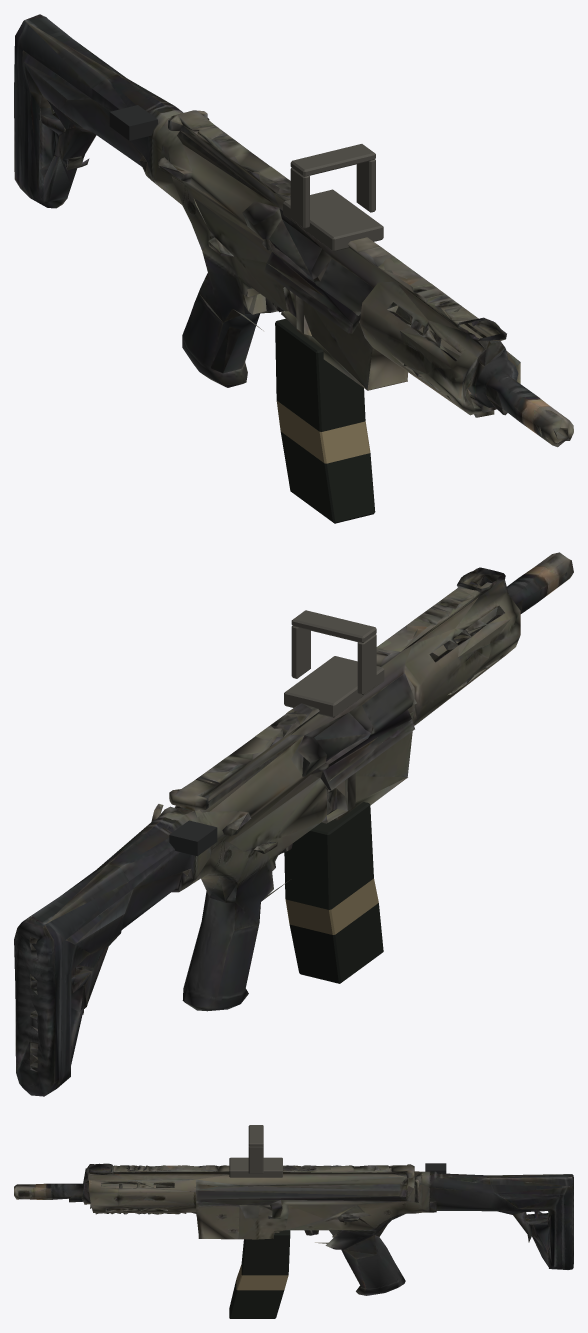
File: field-carbine.glb
3 renders of one model, top to bottom at view 1: azimuth 30°, elevation 25°; view 2: azimuth 150°, elevation 25°; view 3: azimuth 270°, elevation 25°, orthographic. The views are drawn at different scales.
Visible parts, largest first — view 1: field-body, field-magazine, field-bolt; view 2: field-body, field-magazine, field-bolt; view 3: field-body, field-magazine.
Part boxes in pixels (bbox=[...]): field-body: bbox=[14, 14, 573, 447]; field-magazine: bbox=[275, 318, 375, 523]; field-bolt: bbox=[109, 105, 157, 140]; field-body: bbox=[14, 552, 573, 1096]; field-magazine: bbox=[284, 802, 383, 983]; field-bolt: bbox=[169, 820, 217, 856]; field-body: bbox=[14, 1125, 573, 1295]; field-magazine: bbox=[229, 1230, 290, 1318].
Size of the model in its own units: 0.104 by 0.4275 by 1.2.
Materials: 1 (1 with a texture image).
